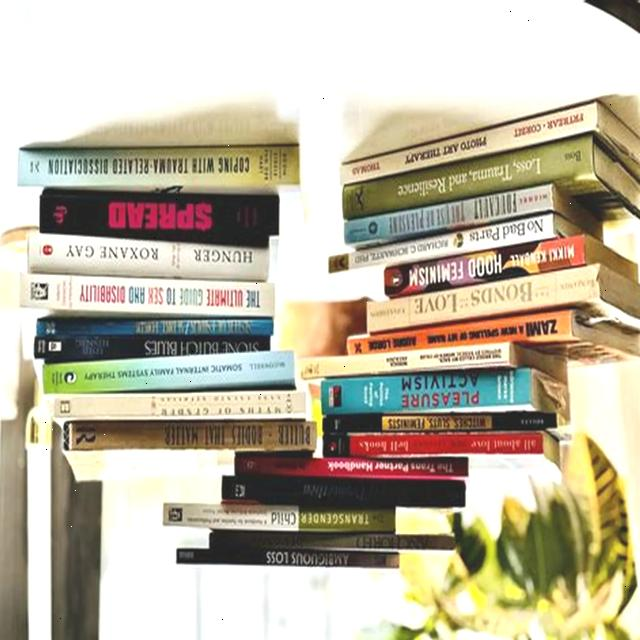book: (341, 103, 596, 187), (345, 141, 593, 218), (40, 188, 280, 246), (17, 144, 299, 193), (21, 276, 275, 324), (44, 348, 296, 395), (386, 236, 584, 293), (53, 391, 305, 426), (63, 419, 314, 454), (320, 372, 533, 413), (221, 476, 466, 508), (178, 531, 447, 558), (303, 344, 509, 379), (162, 507, 395, 533), (237, 456, 467, 481), (179, 546, 417, 570), (324, 434, 542, 457), (35, 316, 272, 337), (324, 411, 553, 432)
